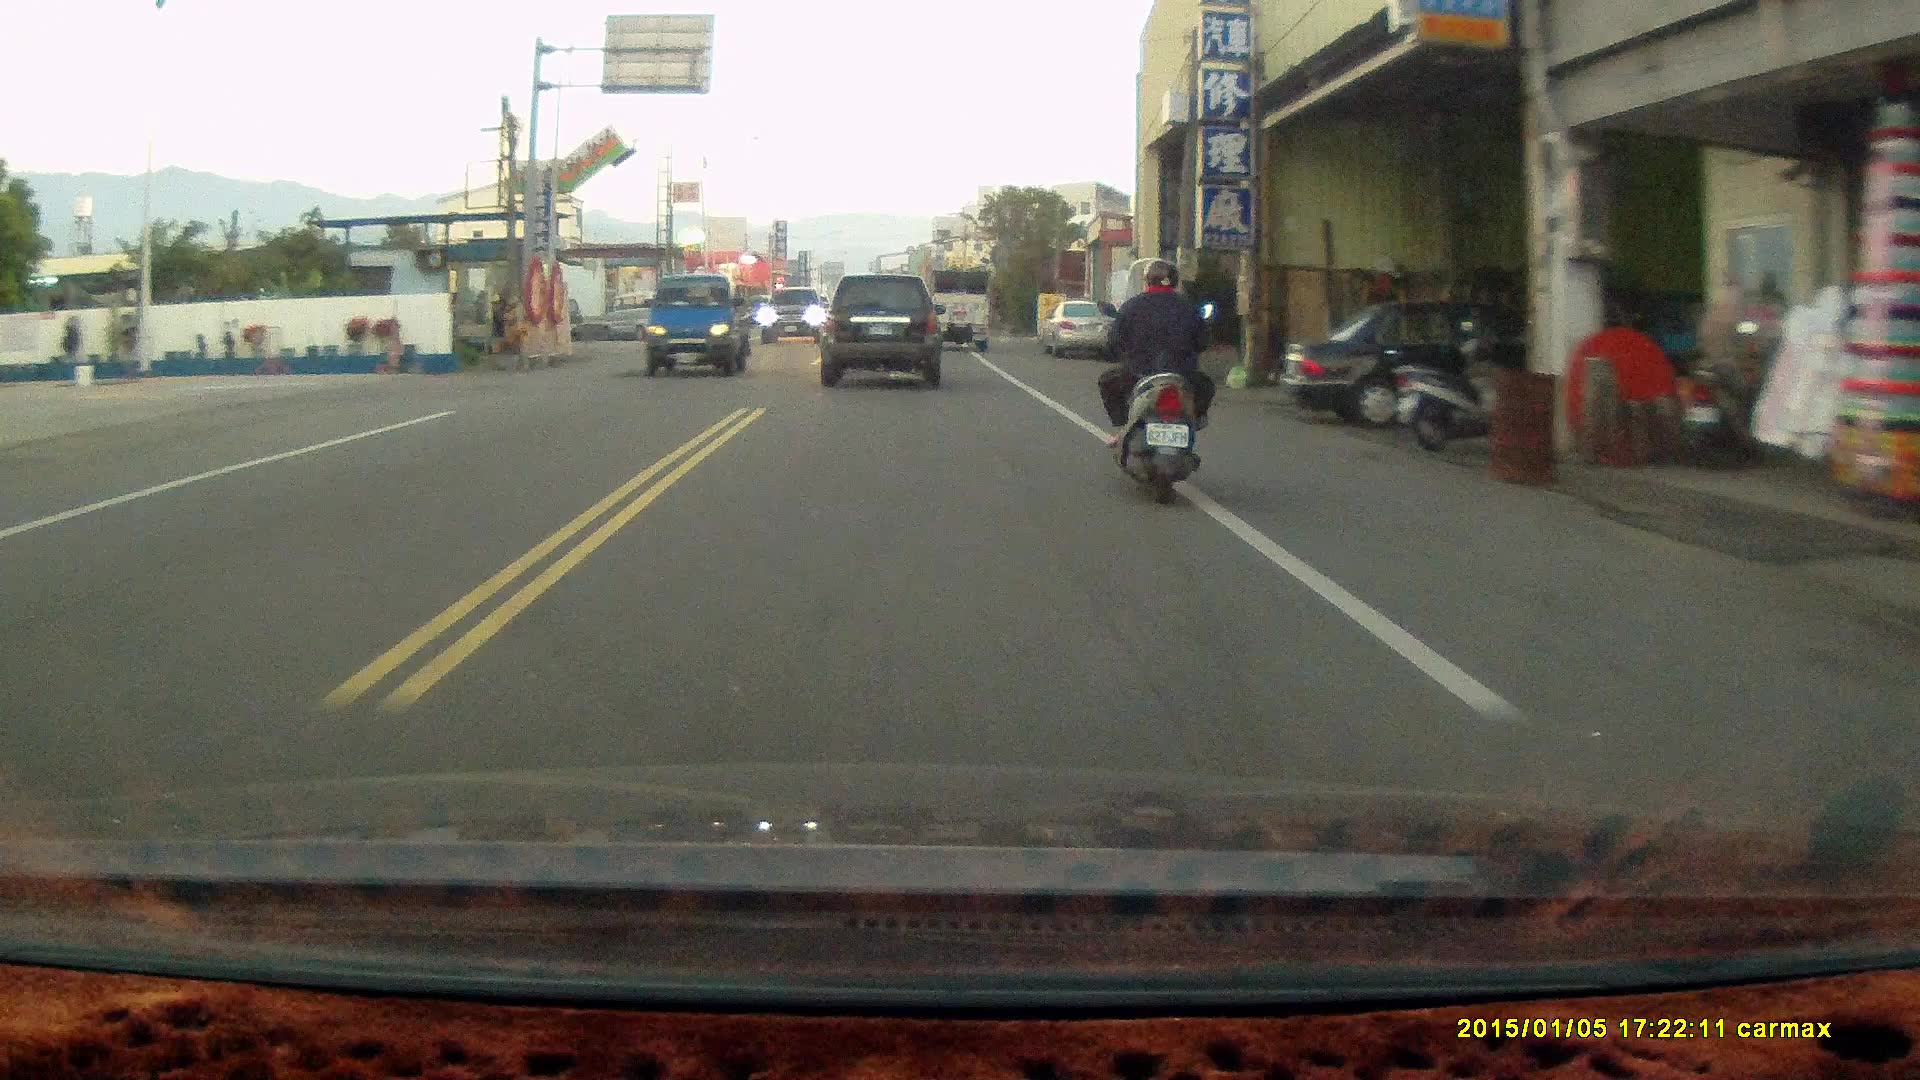rider: (1096, 260, 1216, 509)
vehicle: (1275, 291, 1581, 428), (825, 273, 943, 390), (642, 272, 762, 378), (924, 271, 994, 354), (1042, 292, 1126, 358), (601, 291, 691, 337), (761, 286, 826, 343)
